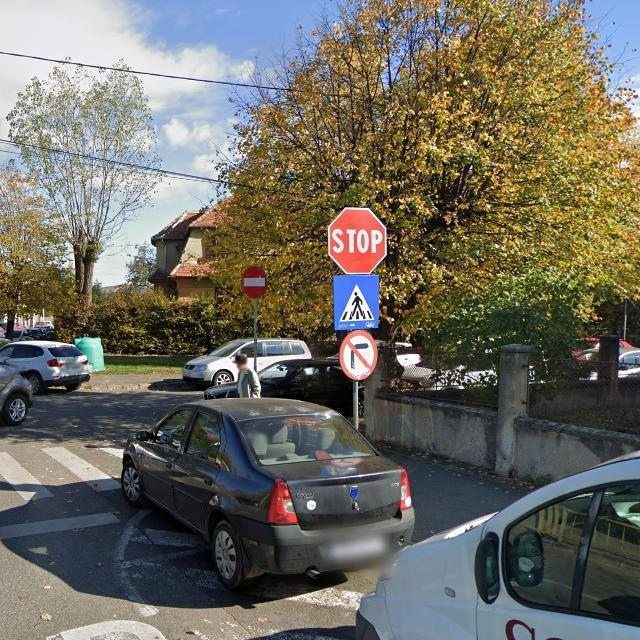info_crosswalk: (332, 273, 380, 329)
prio_stop: (328, 208, 387, 274)
